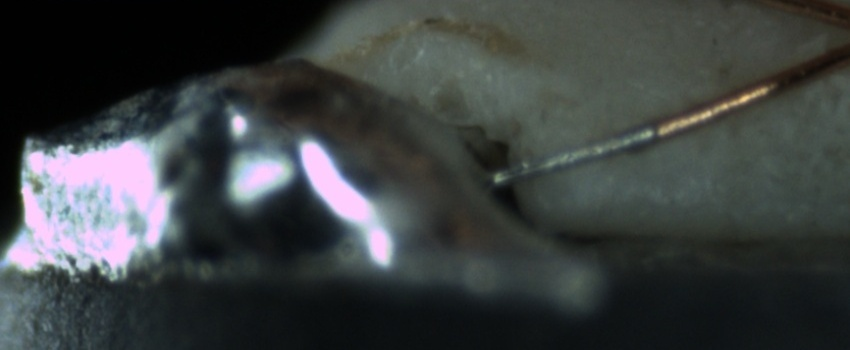TS: (487, 123, 657, 185)
